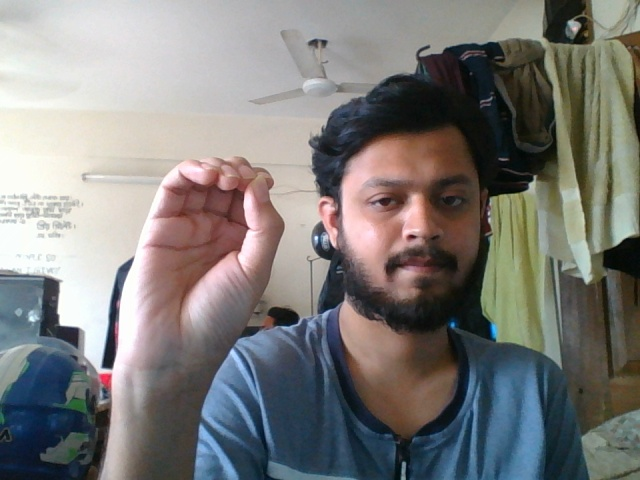oo: (129, 151, 288, 345)
